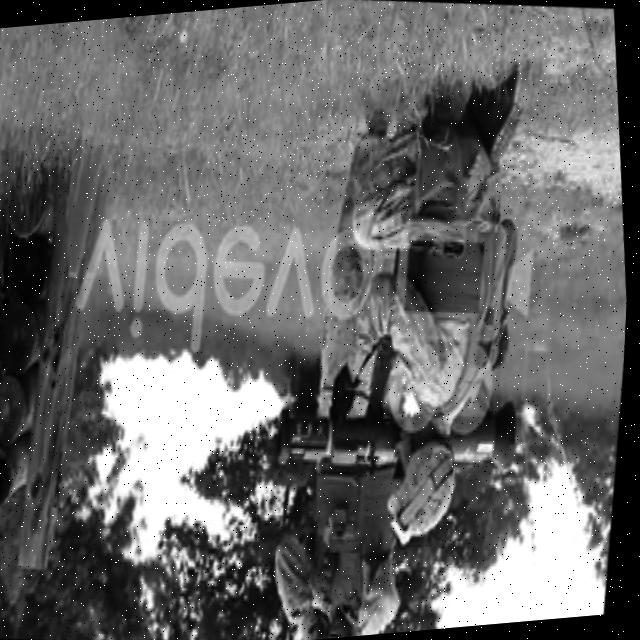rocket: (274, 372, 527, 496)
